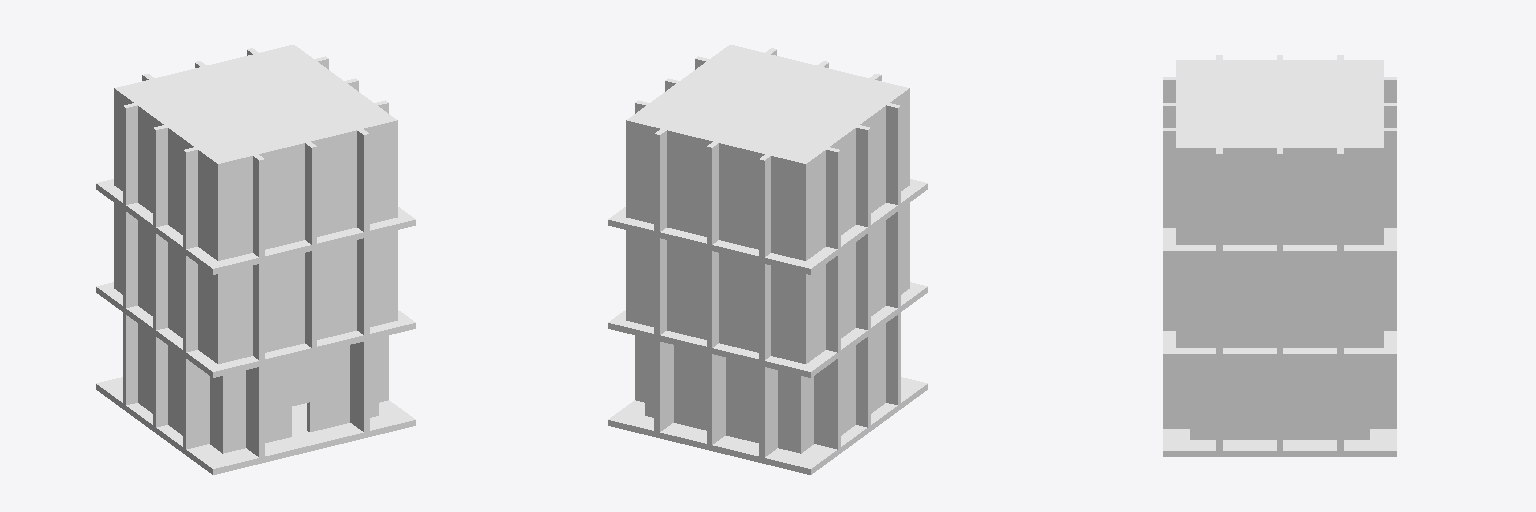
The model's file is bill_H.obj.
The picture shows the model from 3 angles: view 1: azimuth 30°, elevation 25°; view 2: azimuth 150°, elevation 25°; view 3: azimuth 270°, elevation 25°; orthographic projection.
Bounding box in the file's own units: 35 × 50 × 35.